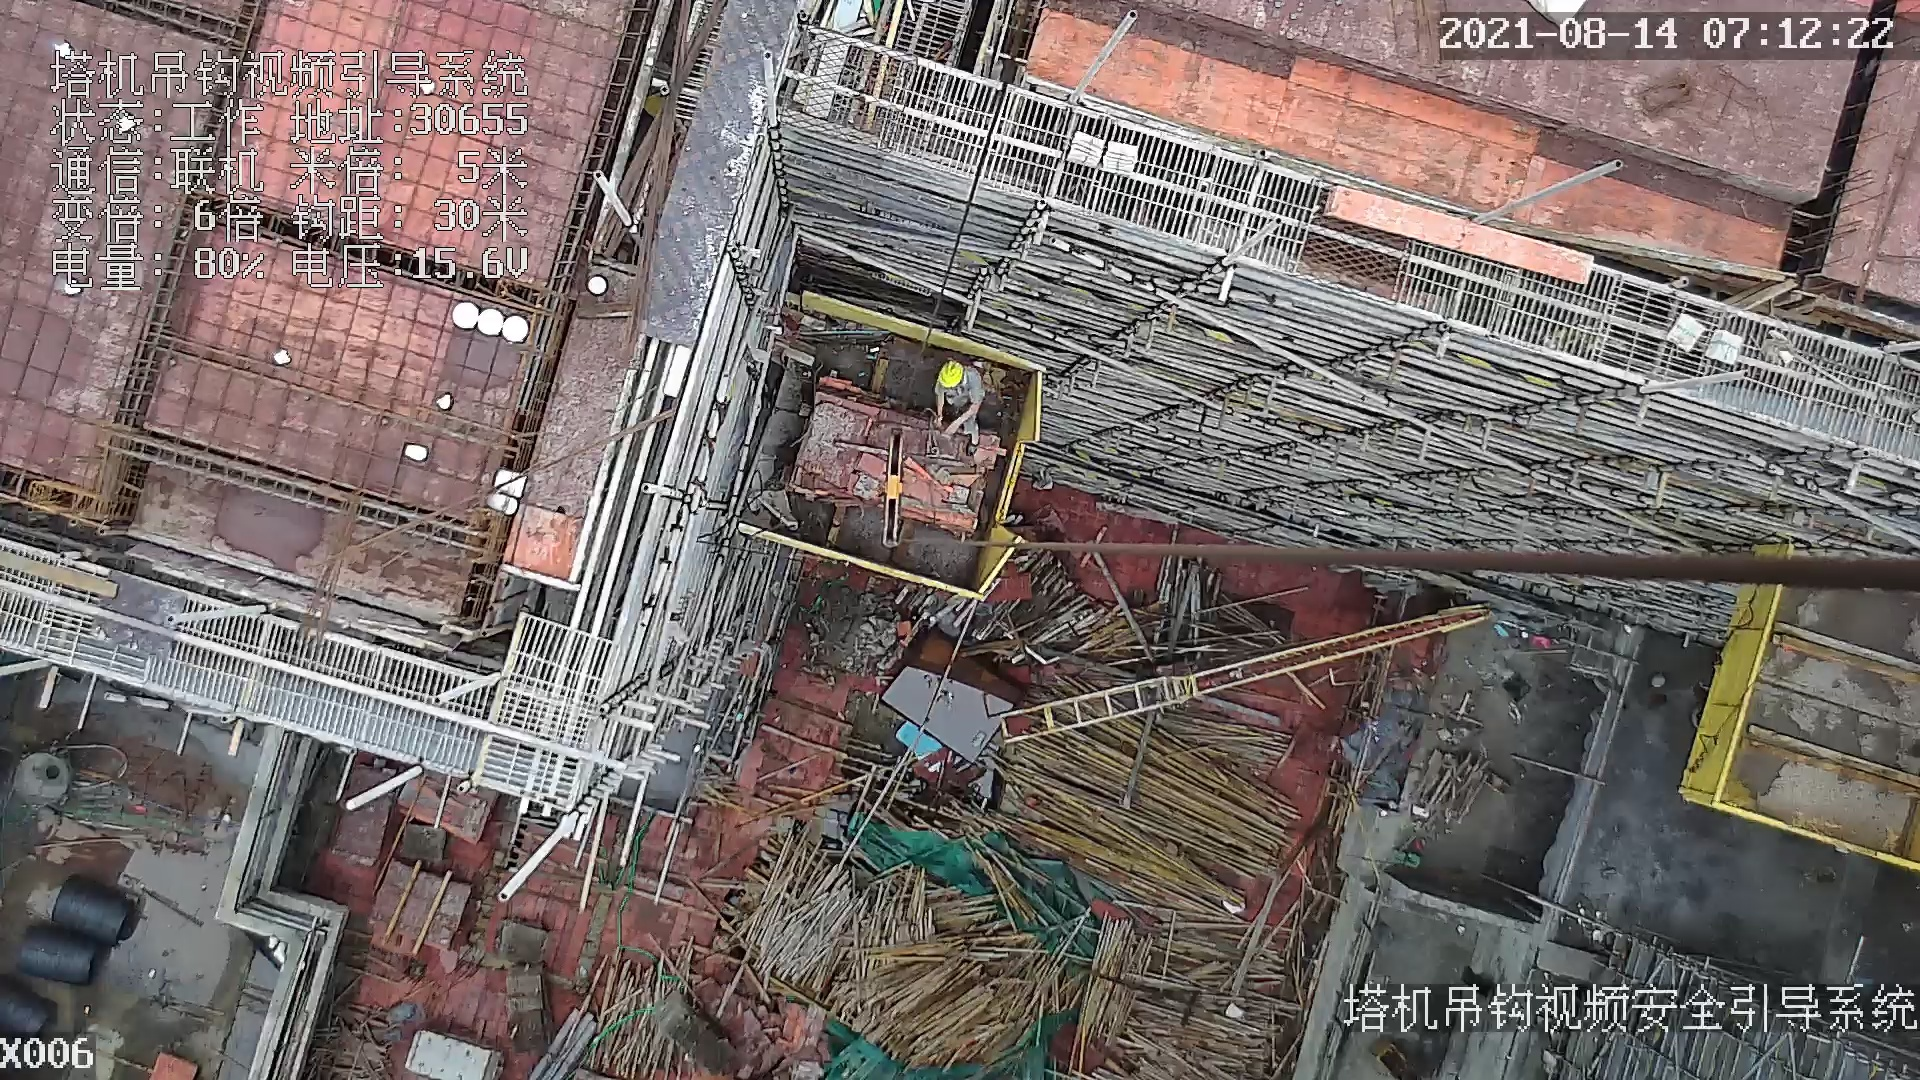helmet: (936, 358, 966, 391)
hook: (870, 423, 909, 547)
person: (935, 356, 985, 444)
